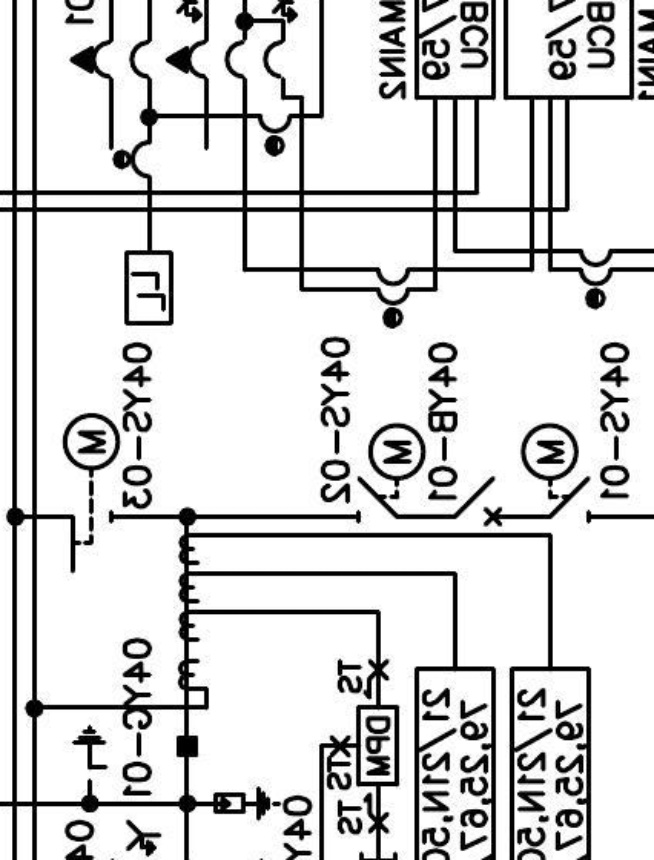115_1way_ds_w_motor: (63, 410, 123, 574), (520, 421, 593, 524), (355, 421, 427, 524)
115_breaker: (454, 475, 503, 527)
115_gs: (70, 722, 110, 785)
115_la: (213, 784, 283, 822)
DPM: (356, 704, 400, 786)
LL: (123, 248, 174, 325)
